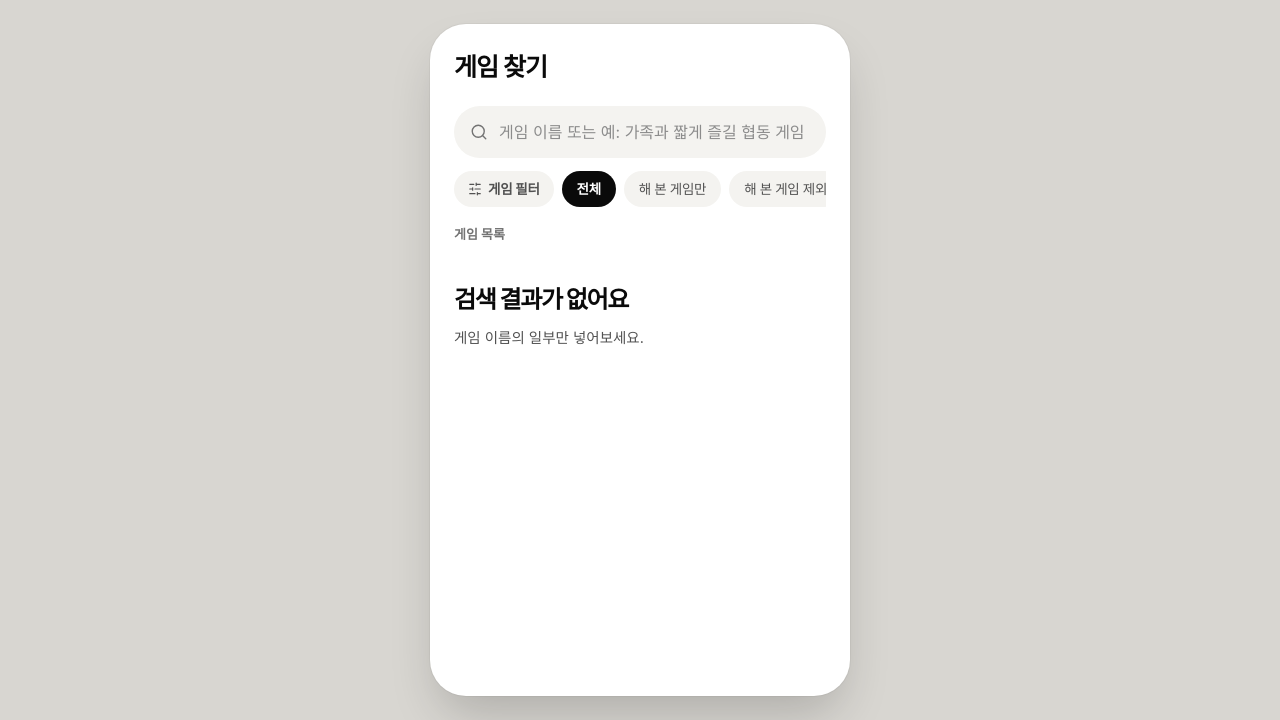
Test: T2·T3 게임 조건 필터 조회 시점 › 플레이 시간은 확정한 6구간만 제공하고 제거된 구간을 남기지 않는다
Click the button "게임 필터" at [504, 189], box [454, 171, 554, 207]
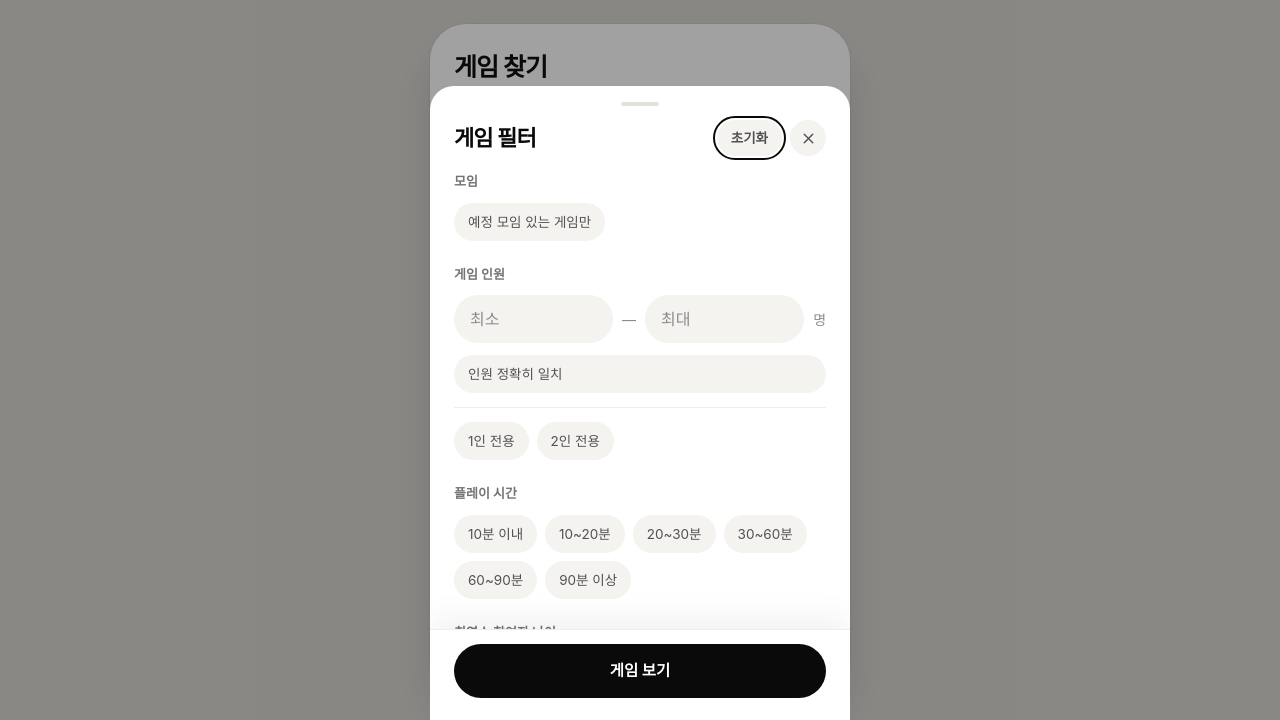
Expected: the checkbox labelled "10분 이내" is shown, [454, 515, 537, 553]
Expected: the checkbox labelled "10~20분" is shown, [545, 515, 625, 553]
Expected: the checkbox labelled "20~30분" is shown, [633, 515, 716, 553]
